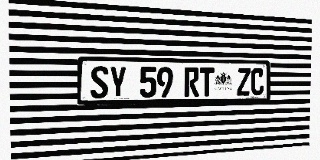5: (140, 66, 156, 98)
9: (157, 67, 173, 97)
C: (251, 68, 264, 95)
R: (184, 67, 199, 97)
S: (90, 66, 108, 98)
T: (199, 67, 214, 96)
Y: (109, 66, 126, 98)
Z: (237, 68, 250, 96)
